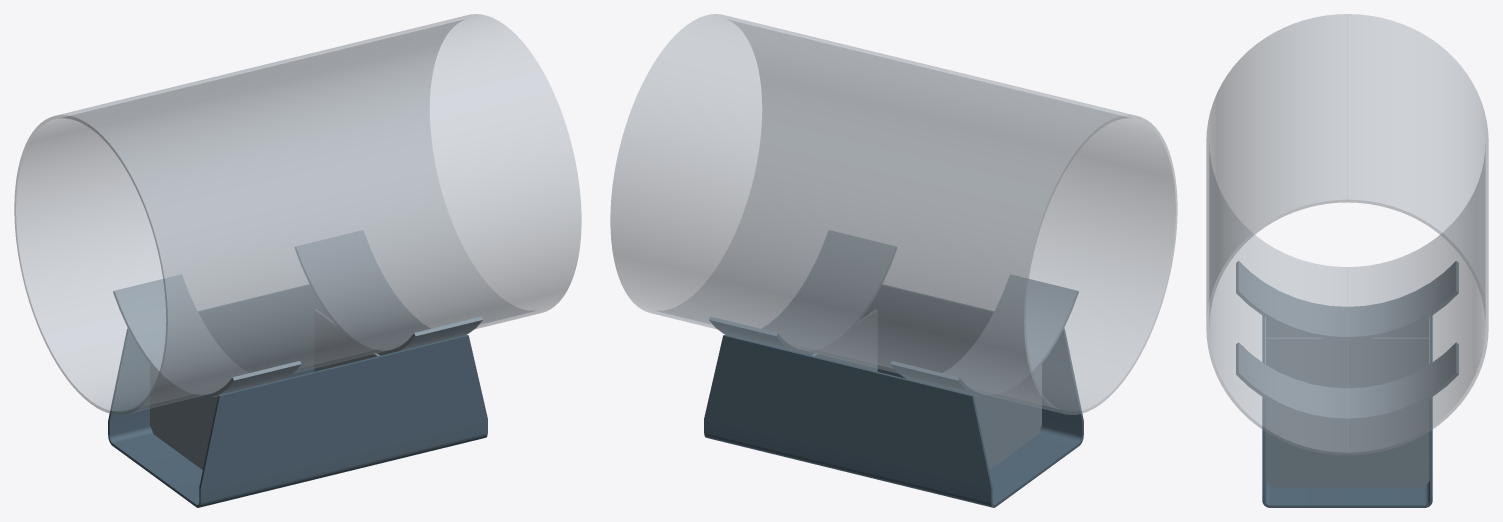
The model's file is TS-624.000-098-opora-dn630-H200-L680.glb.
3 views of the same model, side by side, from view 1: azimuth 30°, elevation 25°; view 2: azimuth 150°, elevation 25°; view 3: azimuth 270°, elevation 25° (orthographic). The views are drawn at different scales.
Visible parts, largest first — view 1: truba, skoba, podushka_0, podushka_1, rebro3_0, rebro4_1; view 2: truba, skoba, podushka_0, podushka_1, rebro3_0, rebro4_1; view 3: truba, rebro3_1, podushka_0, podushka_1, rebro4_0, skoba, rebro3_0.
Part boxes in pixels (<box>): truba: <box>14,14,581,414</box>; skoba: <box>108,284,487,507</box>; podushka_0: <box>113,274,301,398</box>; podushka_1: <box>295,230,482,354</box>; rebro3_0: <box>150,364,217,469</box>; rebro4_1: <box>314,309,379,371</box>; truba: <box>610,14,1177,414</box>; skoba: <box>704,284,1083,507</box>; podushka_0: <box>890,274,1078,398</box>; podushka_1: <box>709,230,896,354</box>; rebro3_0: <box>974,364,1041,469</box>; rebro4_1: <box>812,309,877,371</box>; truba: <box>1206,14,1488,455</box>; rebro3_1: <box>1265,399,1429,487</box>; podushka_0: <box>1236,261,1458,340</box>; podushka_1: <box>1236,342,1458,421</box>; rebro4_0: <box>1265,337,1429,388</box>; skoba: <box>1262,316,1432,507</box>; rebro3_0: <box>1265,317,1429,363</box>.
Size of the model in its own units: 980 by 829 by 630.
